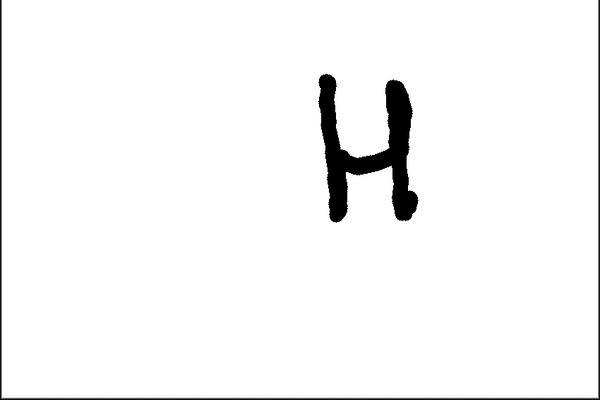H: (312, 69, 419, 228)
